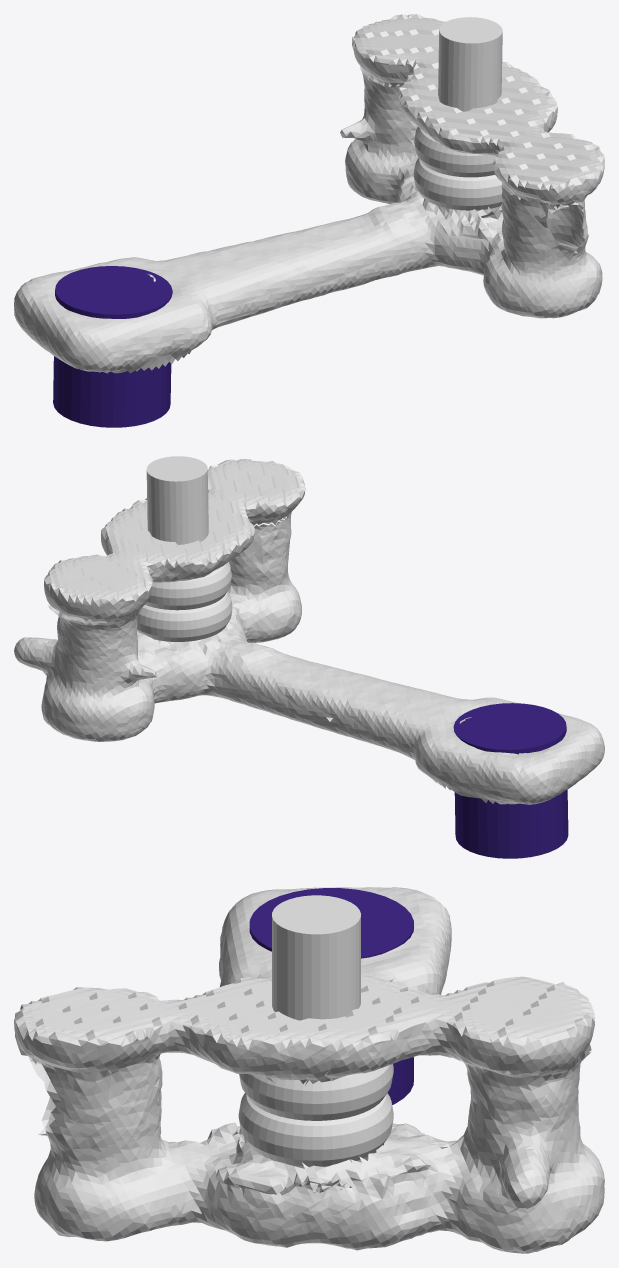
Rendered from Barometer_inside_parts_yarn_mount_arrow_axe.fbx.
3 views of the same model, one above another, from view 1: azimuth 30°, elevation 25°; view 2: azimuth 150°, elevation 25°; view 3: azimuth 270°, elevation 25° (orthographic). The views are drawn at different scales.
Parts seen in each view (by area): view 1: Barometer_inside_parts_arrow_with_mount.001, Barometer_inside_parts_arrow_with_mount_top.001, nut-replacement.001, time_axe.001, yarn_spindle.001; view 2: Barometer_inside_parts_arrow_with_mount.001, Barometer_inside_parts_arrow_with_mount_top.001, nut-replacement.001, yarn_spindle.001, time_axe.001; view 3: Barometer_inside_parts_arrow_with_mount.001, Barometer_inside_parts_arrow_with_mount_top.001, yarn_spindle.001, time_axe.001, nut-replacement.001.
Boxes of the visible parts, x1,y1,x2,y2 form: Barometer_inside_parts_arrow_with_mount.001: [14, 66, 602, 373]; Barometer_inside_parts_arrow_with_mount_top.001: [352, 14, 604, 208]; nut-replacement.001: [53, 266, 172, 427]; time_axe.001: [438, 17, 502, 213]; yarn_spindle.001: [413, 127, 502, 210]; Barometer_inside_parts_arrow_with_mount.001: [14, 512, 604, 804]; Barometer_inside_parts_arrow_with_mount_top.001: [44, 459, 305, 622]; nut-replacement.001: [453, 703, 568, 858]; yarn_spindle.001: [137, 562, 232, 641]; time_axe.001: [146, 456, 208, 544]; Barometer_inside_parts_arrow_with_mount.001: [28, 887, 604, 1253]; Barometer_inside_parts_arrow_with_mount_top.001: [14, 974, 594, 1085]; yarn_spindle.001: [238, 1064, 393, 1166]; time_axe.001: [272, 895, 360, 1168]; nut-replacement.001: [249, 888, 413, 1104].
Bounding box in the file's own units: 20.1 × 10.81 × 14.12.
